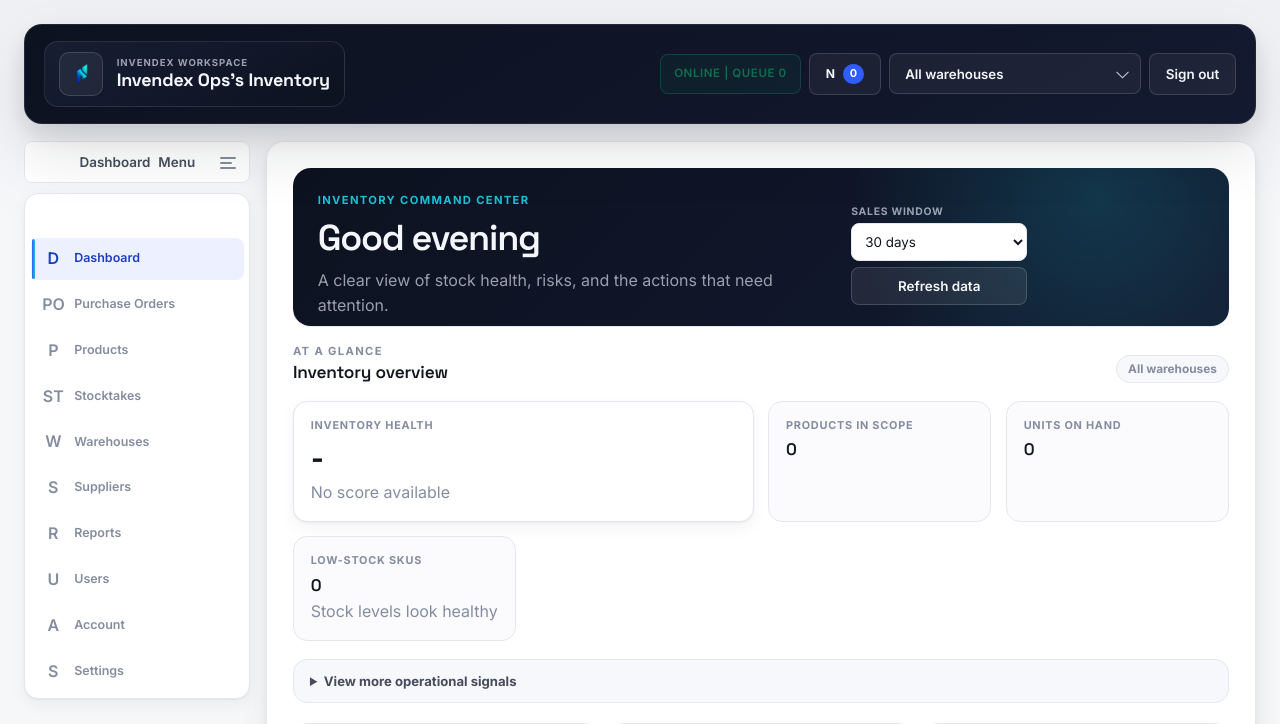
it: App integration › goes straight to the portal after sign out
This screenshot has width=1280, height=724.
Click the button "Sign out". click: (1193, 74)
box: [1149,53,1236,95]
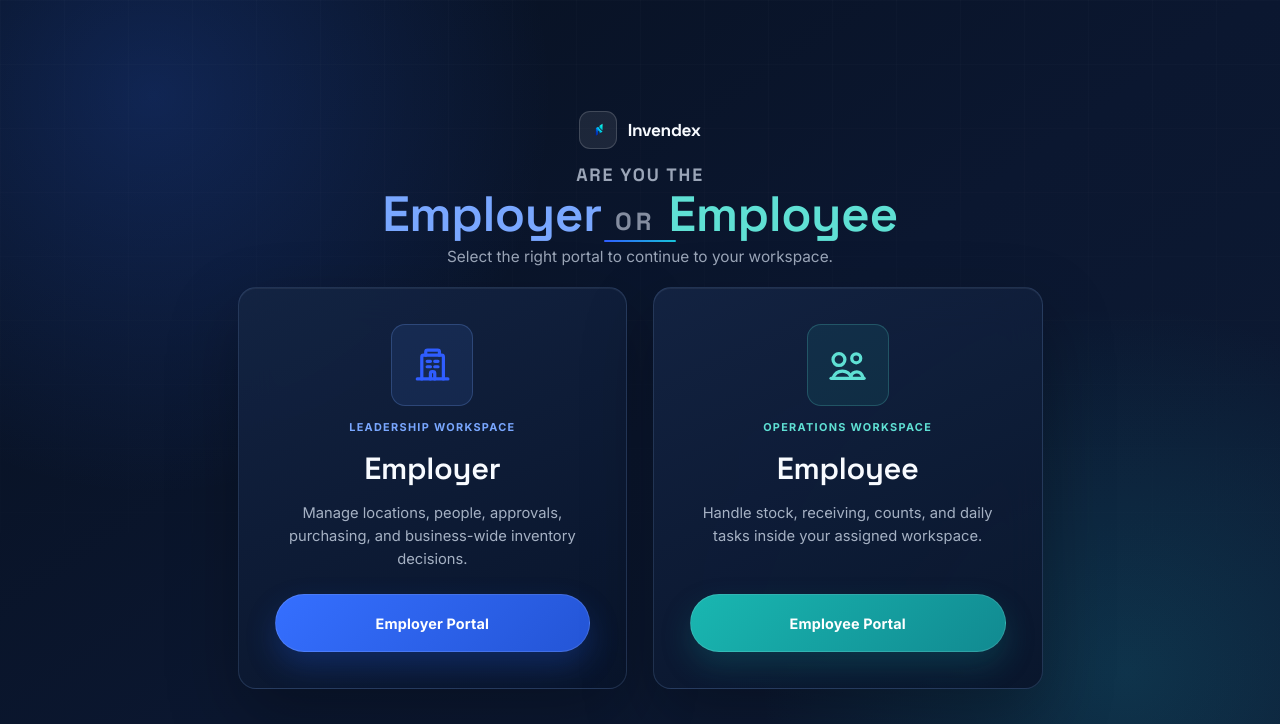
Now the button "Employer Portal" is shown, box [274,594,590,652]
Now the button "Employee Portal" is shown, box [690,594,1006,652]
